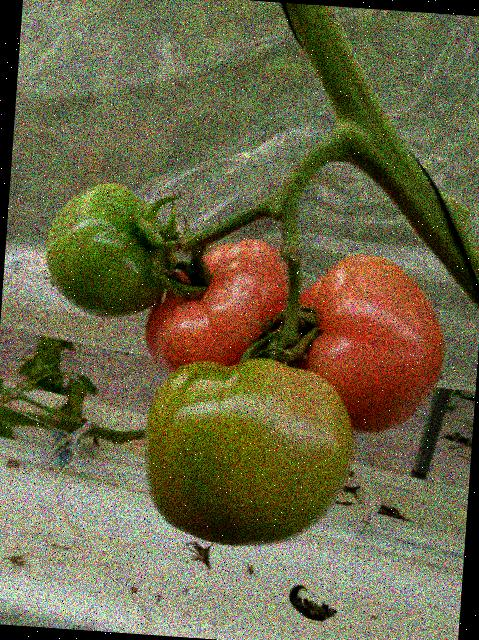b_fully_ripened: (279, 248, 451, 438), (140, 232, 294, 382)
b_green: (39, 178, 179, 322)
b_half_ripened: (137, 349, 359, 554)
